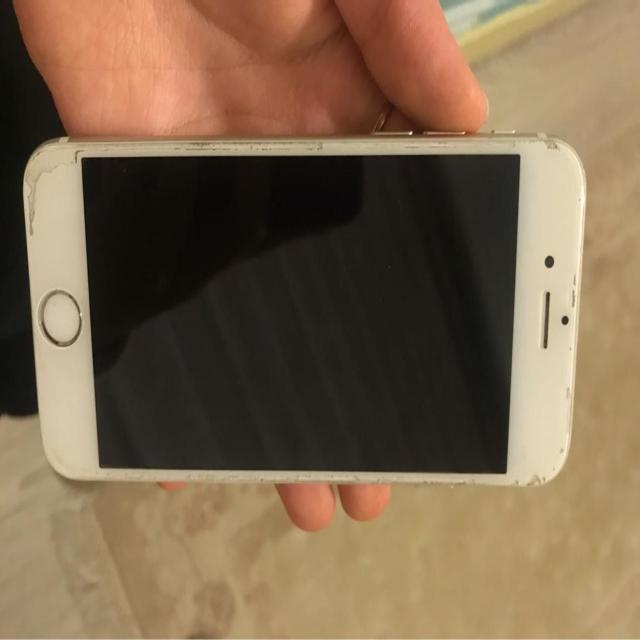Dents: (23, 136, 569, 154), (80, 472, 552, 490), (567, 266, 584, 359), (556, 381, 576, 404)
